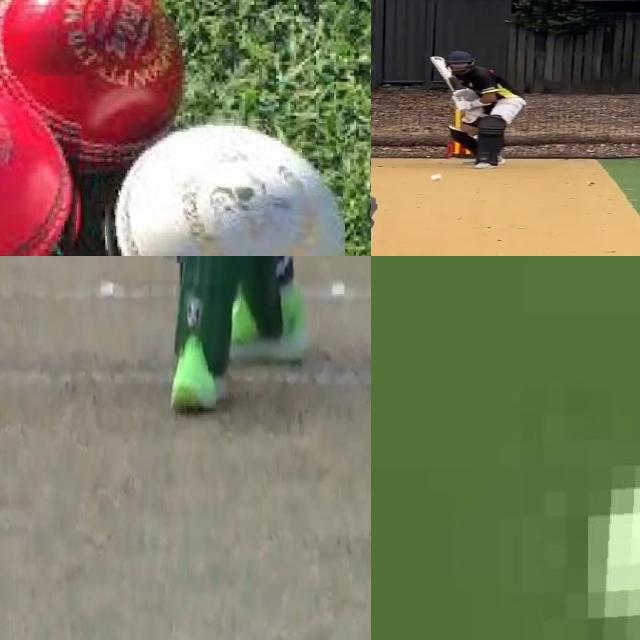Cricket ball: (95, 115, 345, 256), (0, 76, 86, 256), (588, 483, 640, 640), (429, 174, 443, 182)
